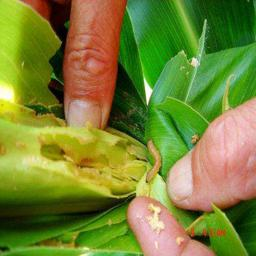Tobacco_budworm: (145, 138, 161, 183)
